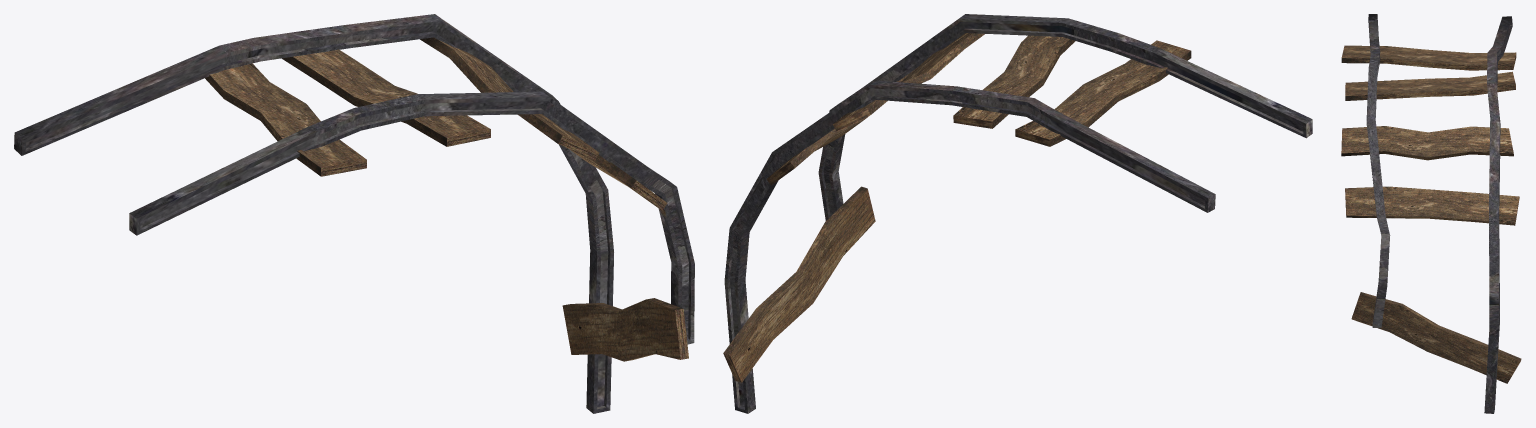
Rendered from rails_curved2.fbx.
3 views of the same model, side by side, from view 1: azimuth 30°, elevation 25°; view 2: azimuth 150°, elevation 25°; view 3: azimuth 270°, elevation 25° (orthographic). The views are drawn at different scales.
Visible parts, largest first — view 1: rails, planks; view 2: rails, planks; view 3: planks, rails.
Boxes of the visible parts, box(x1,y1,x2,y2) form: rails: box(14, 14, 694, 413); planks: box(205, 37, 688, 361); rails: box(724, 14, 1312, 413); planks: box(723, 33, 1191, 382); planks: box(1341, 45, 1521, 383); rails: box(1366, 14, 1512, 413).
Size of the model in its own units: 7180 by 5344 by 3293.
2 materials, 2 textured.
